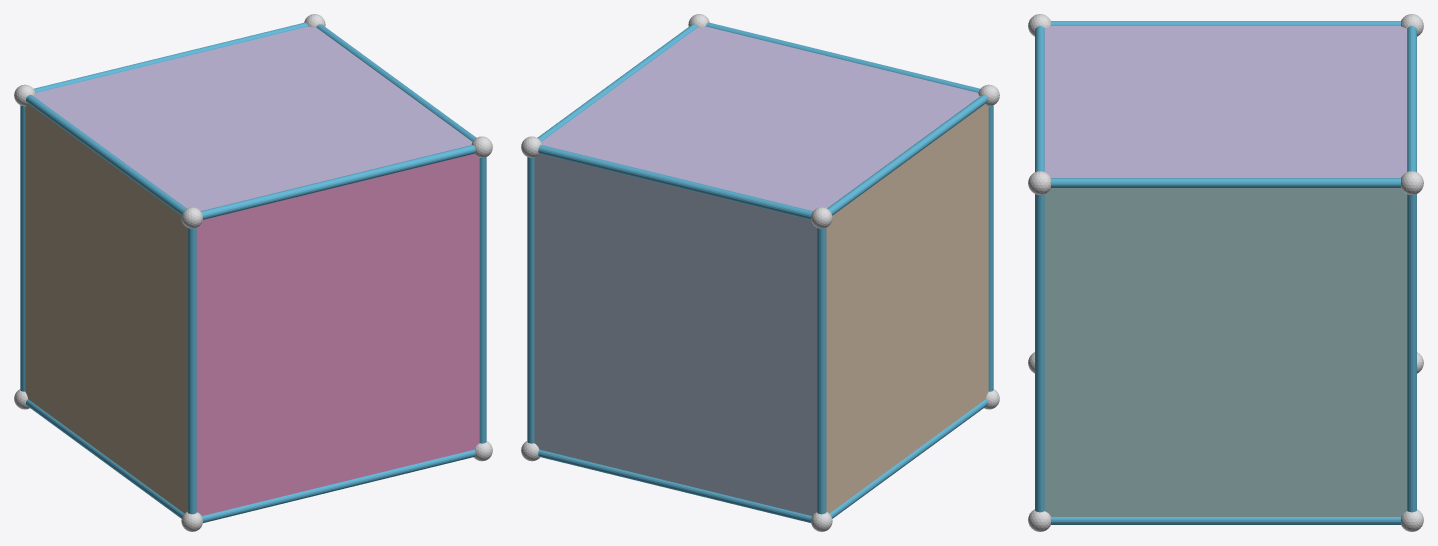
File: kubus_materi_rusuk.glb
The picture shows the model from 3 angles, left to right: view 1: azimuth 30°, elevation 25°; view 2: azimuth 150°, elevation 25°; view 3: azimuth 270°, elevation 25°; orthographic projection. The views are drawn at different scales.
Parts seen in each view (by area): view 1: Sisi_Atas, Sisi_Kiri, Sisi_Belakang, Rusuk_06, Rusuk_04, Rusuk_08, Rusuk_02, Rusuk_10, Rusuk_05, Rusuk_03, Rusuk_09, Rusuk_12; view 2: Sisi_Bawah, Sisi_Kiri, Sisi_Belakang, Rusuk_05, Rusuk_03, Rusuk_07, Rusuk_01, Rusuk_10, Rusuk_06, Rusuk_04, Rusuk_09, Rusuk_12; view 3: Sisi_Kanan, Sisi_Belakang, Rusuk_12, Rusuk_07, Rusuk_08, Rusuk_11, Rusuk_10, Rusuk_03, Rusuk_04.
Boxes of the visible parts, bbox=[...] form: Sisi_Atas: bbox=[196, 153, 479, 515]; Sisi_Kiri: bbox=[25, 103, 187, 513]; Sisi_Belakang: bbox=[34, 26, 472, 210]; Rusuk_06: bbox=[187, 228, 196, 514]; Rusuk_04: bbox=[201, 145, 475, 219]; Rusuk_08: bbox=[479, 157, 486, 443]; Rusuk_02: bbox=[202, 449, 475, 522]; Rusuk_10: bbox=[26, 95, 186, 215]; Rusuk_05: bbox=[20, 105, 25, 391]; Rusuk_03: bbox=[33, 22, 308, 92]; Rusuk_09: bbox=[26, 399, 184, 518]; Rusuk_12: bbox=[316, 24, 476, 141]; Sisi_Bawah: bbox=[534, 153, 817, 515]; Sisi_Kiri: bbox=[826, 103, 988, 513]; Sisi_Belakang: bbox=[541, 26, 979, 210]; Rusuk_05: bbox=[817, 228, 826, 514]; Rusuk_03: bbox=[538, 145, 812, 219]; Rusuk_07: bbox=[527, 157, 534, 443]; Rusuk_01: bbox=[538, 449, 811, 522]; Rusuk_10: bbox=[827, 95, 987, 215]; Rusuk_06: bbox=[988, 105, 993, 391]; Rusuk_04: bbox=[705, 22, 980, 92]; Rusuk_09: bbox=[829, 399, 987, 518]; Rusuk_12: bbox=[537, 24, 697, 141]; Sisi_Kanan: bbox=[1044, 188, 1407, 516]; Sisi_Belakang: bbox=[1044, 26, 1407, 177]; Rusuk_12: bbox=[1051, 178, 1400, 187]; Rusuk_07: bbox=[1407, 194, 1416, 512]; Rusuk_08: bbox=[1035, 194, 1044, 512]; Rusuk_11: bbox=[1051, 517, 1400, 524]; Rusuk_10: bbox=[1051, 21, 1400, 25]; Rusuk_03: bbox=[1407, 26, 1416, 171]; Rusuk_04: bbox=[1035, 26, 1044, 171].
Size of the model in its own units: 2.13 by 2.13 by 2.13.
